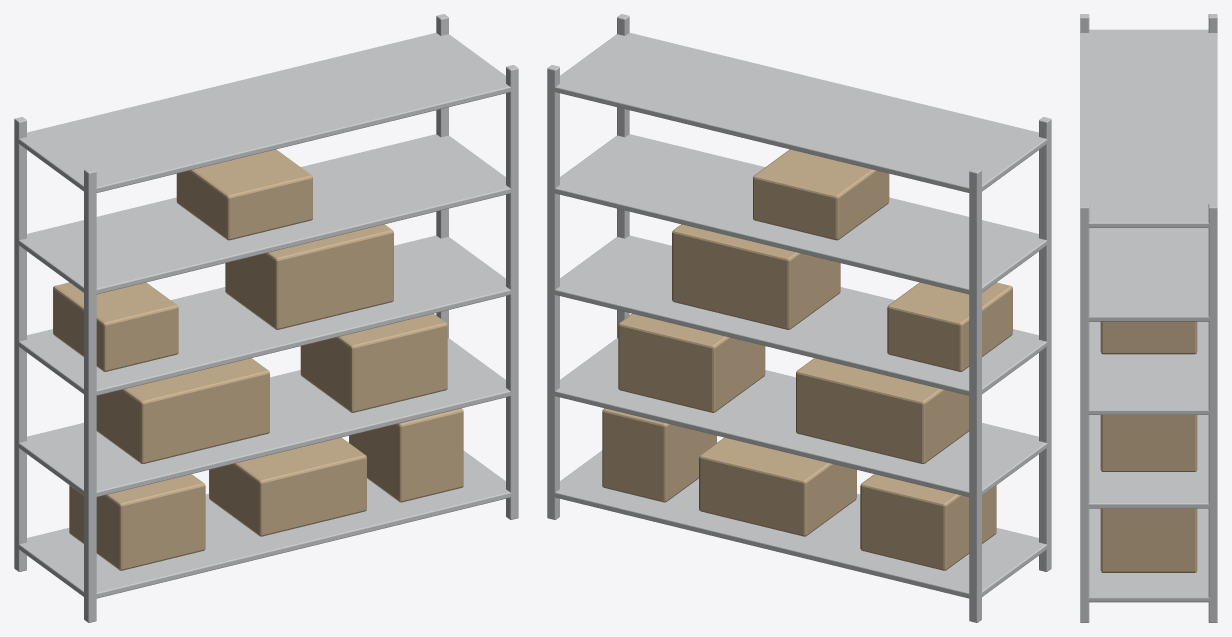
Rendered from storage_rack.glb.
3 renders of one model, left to right at view 1: azimuth 30°, elevation 25°; view 2: azimuth 150°, elevation 25°; view 3: azimuth 270°, elevation 25°, orthographic. The views are drawn at different scales.
Visible parts, largest first — view 1: storage_rack; view 2: storage_rack; view 3: storage_rack.
Part boxes in pixels (x1,y1,x2,y2): storage_rack: (14, 14, 518, 622); storage_rack: (547, 14, 1051, 622); storage_rack: (1080, 14, 1217, 622).
Bounding box in the file's own units: 2 × 2 × 0.6.
